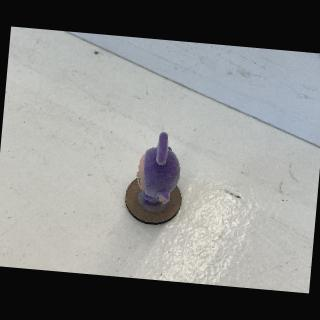teletubby: (137, 132, 180, 206)
